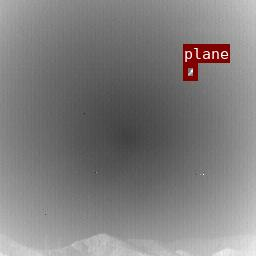plane: (183, 63, 197, 80)
